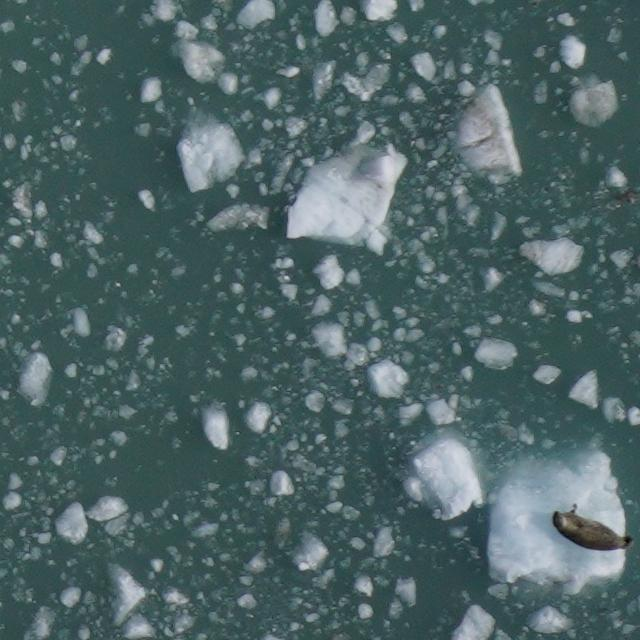seal: (549, 502, 637, 554)
